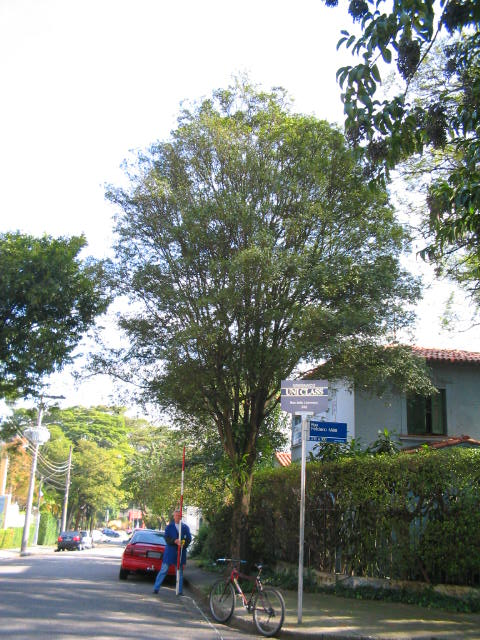crown: (112, 68, 434, 464), (1, 230, 103, 406)
stem: (214, 470, 263, 579)
stick: (171, 444, 189, 595)
tree: (108, 66, 438, 581)
